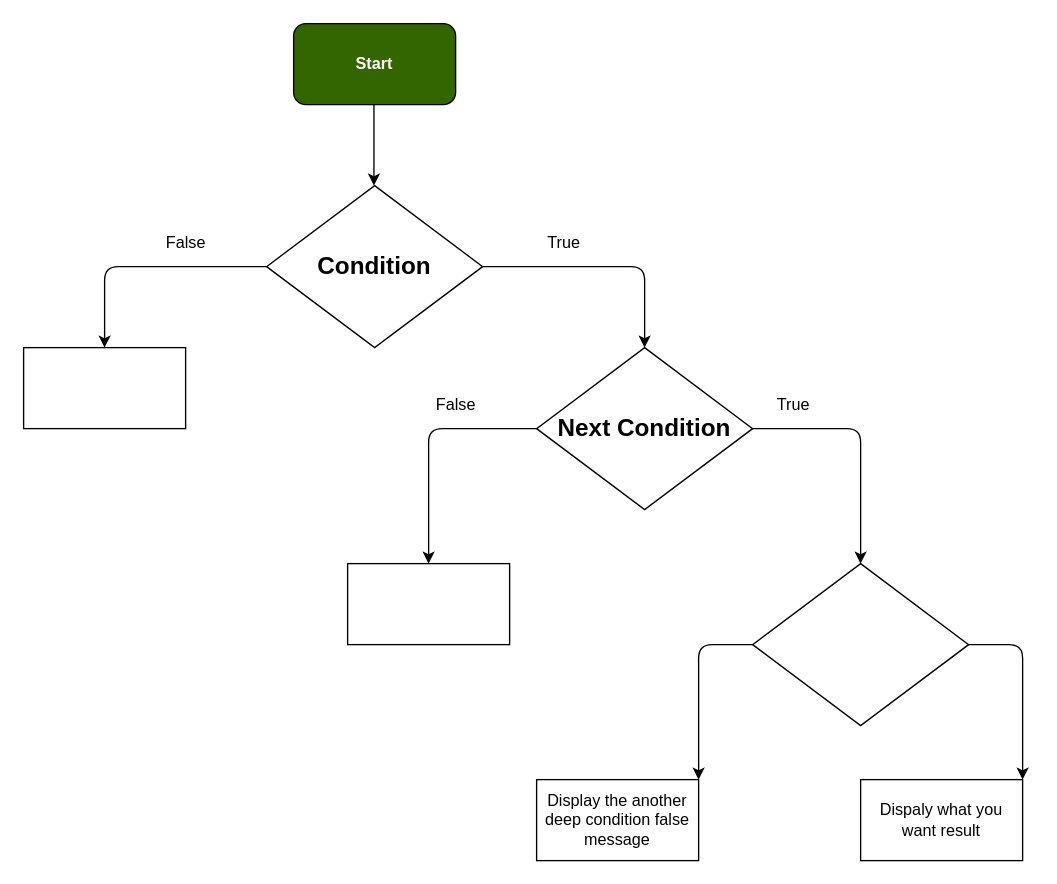
Image size: 1057x884. Some labels were removed from this diagram. The centre of each missing label's shape, as x and y in pixels:
Another deep condition: the point at 860,644
Display if condtion is not true value: the point at 104,387
Display the next condition false message or value: the point at 428,603
